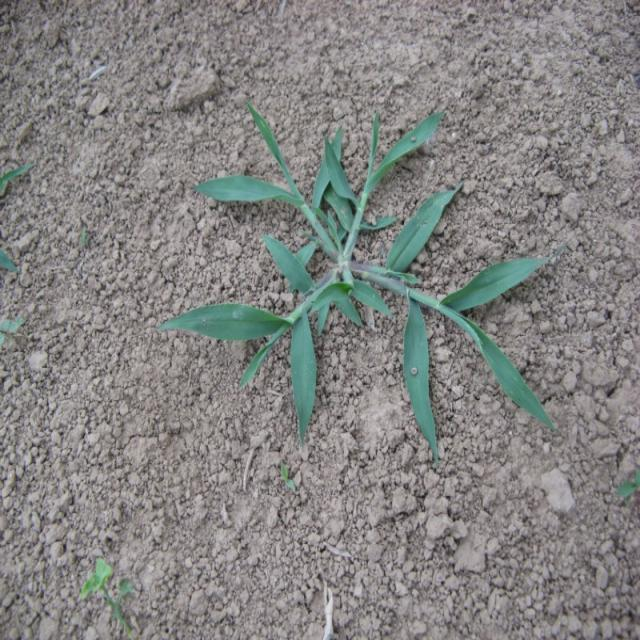bg: (152, 95, 558, 448)
